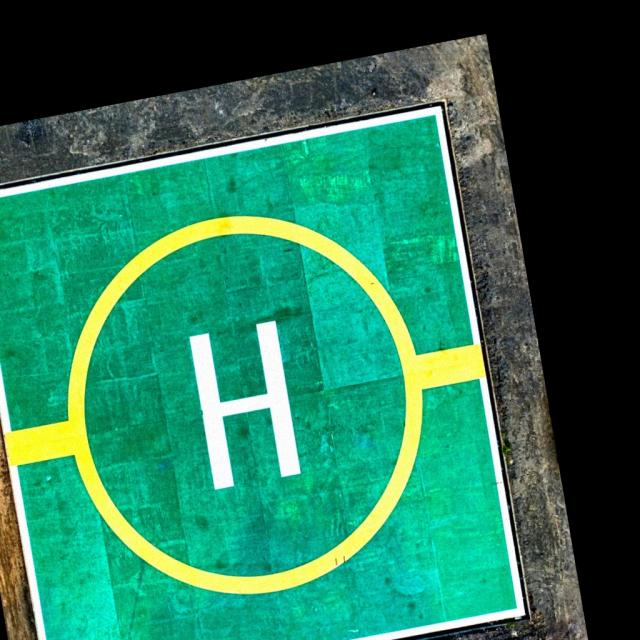helipad: (61, 209, 426, 602)
